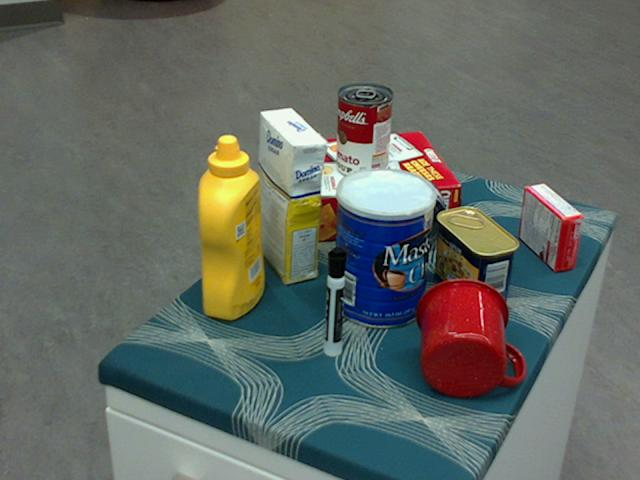cracker_box: (267, 130, 460, 247)
gelatin_box: (519, 183, 583, 272)
large_marker: (323, 247, 345, 358)
master_chef_can: (334, 167, 436, 329)
mug: (416, 276, 523, 397)
mustard_bottle: (196, 135, 265, 321)
potted_meat_can: (434, 207, 520, 315)
sugar_box: (257, 108, 324, 286)
tomato_soup_can: (337, 83, 392, 180)
tuna_fish_can: (374, 176, 447, 249)
